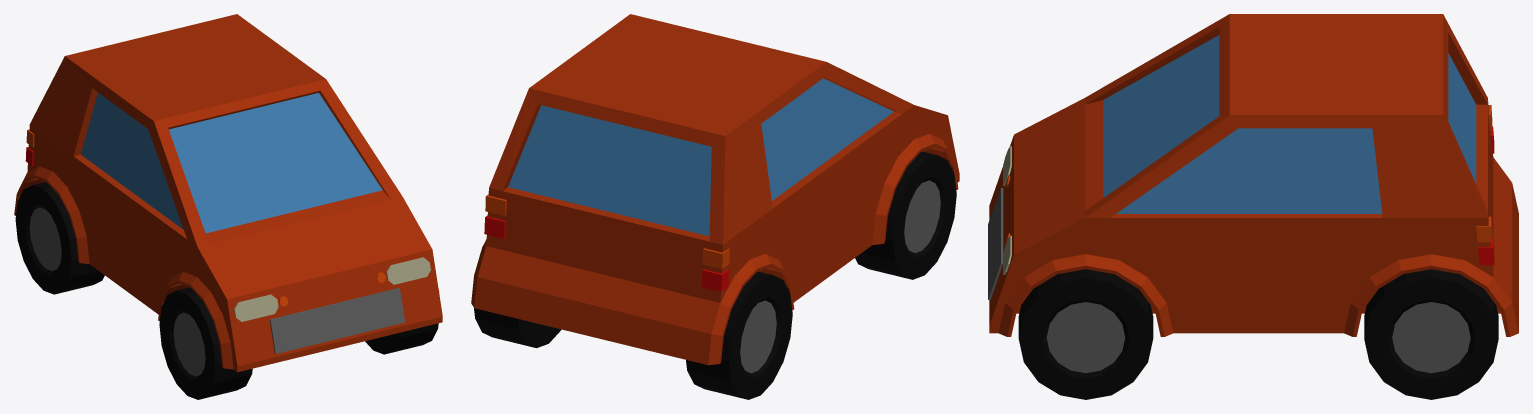
File: car-micro-orange.obj
3 views of the same model, side by side, from view 1: azimuth 30°, elevation 25°; view 2: azimuth 150°, elevation 25°; view 3: azimuth 270°, elevation 25° (orthographic). The views are drawn at different scales.
Visible parts, largest first — view 1: car-micro-orange_Cube.614_carmaterial_orange, car-micro-orange_Cube.614_windows, car-micro-orange_Cube.614_tires, car-micro-orange_Cube.614_metal, car-micro-orange_Cube.614_lights; view 2: car-micro-orange_Cube.614_carmaterial_orange, car-micro-orange_Cube.614_windows, car-micro-orange_Cube.614_tires, car-micro-orange_Cube.614_metal, car-micro-orange_Cube.614_lights.red, car-micro-orange_Cube.614_lights.orange; view 3: car-micro-orange_Cube.614_carmaterial_orange, car-micro-orange_Cube.614_windows, car-micro-orange_Cube.614_tires, car-micro-orange_Cube.614_metal, car-micro-orange_Cube.614_lights, car-micro-orange_Cube.614_lights.orange.
Part boxes in pixels (left/top/right/bottom): car-micro-orange_Cube.614_carmaterial_orange: left=14, top=14, right=442, bottom=372; car-micro-orange_Cube.614_windows: left=81, top=92, right=382, bottom=233; car-micro-orange_Cube.614_tires: left=15, top=182, right=438, bottom=399; car-micro-orange_Cube.614_metal: left=29, top=207, right=405, bottom=376; car-micro-orange_Cube.614_lights: left=234, top=257, right=430, bottom=321; car-micro-orange_Cube.614_carmaterial_orange: left=471, top=14, right=959, bottom=365; car-micro-orange_Cube.614_windows: left=508, top=78, right=893, bottom=236; car-micro-orange_Cube.614_tires: left=474, top=151, right=956, bottom=399; car-micro-orange_Cube.614_metal: left=740, top=180, right=940, bottom=373; car-micro-orange_Cube.614_lights.red: left=484, top=215, right=728, bottom=291; car-micro-orange_Cube.614_lights.orange: left=485, top=194, right=729, bottom=268; car-micro-orange_Cube.614_carmaterial_orange: left=989, top=14, right=1518, bottom=336; car-micro-orange_Cube.614_windows: left=1103, top=35, right=1476, bottom=213; car-micro-orange_Cube.614_tires: left=1018, top=269, right=1498, bottom=399; car-micro-orange_Cube.614_metal: left=988, top=188, right=1470, bottom=373; car-micro-orange_Cube.614_lights: left=1003, top=146, right=1011, bottom=274; car-micro-orange_Cube.614_lights.orange: left=1005, top=105, right=1492, bottom=244.
Bounding box in the file's own units: 0.834 × 0.7965 × 1.42.
